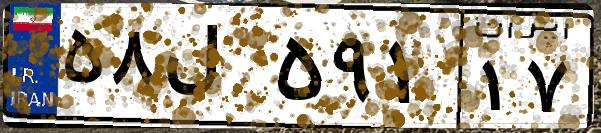1: (385, 28, 445, 110), (475, 38, 525, 113)
5: (270, 28, 330, 110), (57, 26, 110, 100)
7: (525, 38, 570, 115)
8: (110, 28, 158, 98)
9: (330, 28, 385, 110)
ل: (158, 20, 270, 120)
